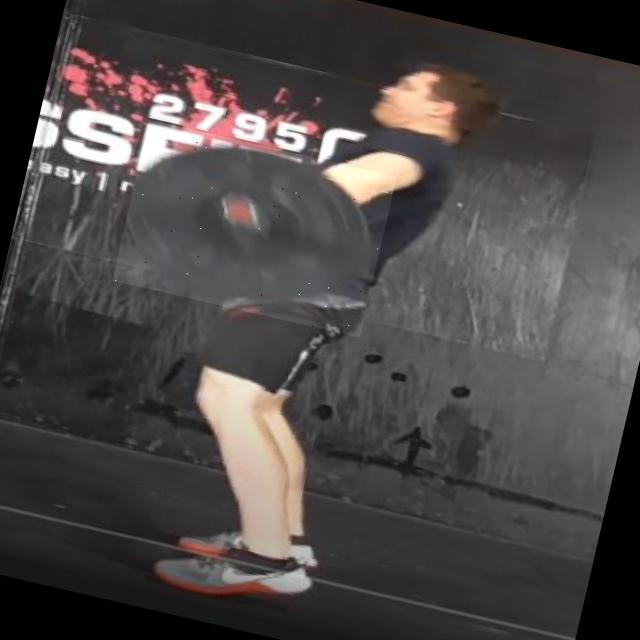barbell: (113, 121, 398, 339)
